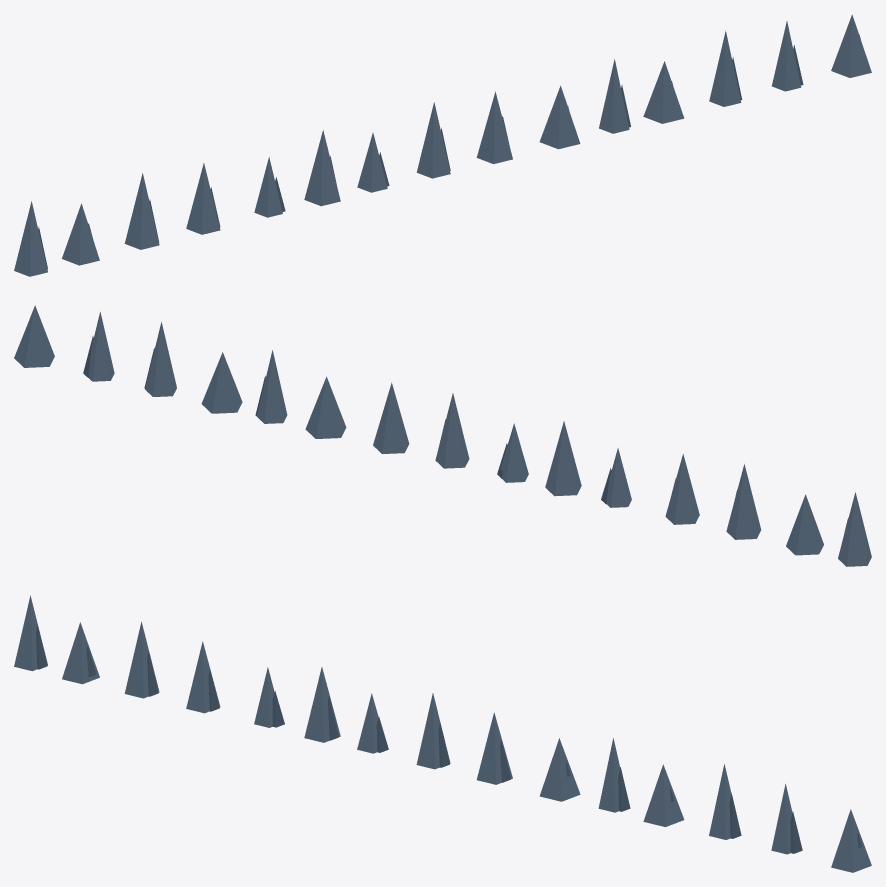
Rendered from cliffs_mid.glb.
3 views of the same model, one above another, from view 1: azimuth 30°, elevation 25°; view 2: azimuth 150°, elevation 25°; view 3: azimuth 330°, elevation 25° (orthographic).
Visible parts, largest first — view 1: Cone.002, Cone.012, Cone.020, Cone.014, Cone.026, Cone.028, Cone, Cone.010, Cone.018, Cone.016, Cone.006, Cone.004 (+3 smaller); view 2: Cone.002, Cone.012, Cone.026, Cone.028, Cone.020, Cone.010, Cone.014, Cone, Cone.018, Cone.016, Cone.006, Cone.004 (+3 smaller); view 3: Cone.026, Cone.028, Cone.010, Cone.002, Cone.012, Cone.020, Cone.014, Cone.006, Cone, Cone.018, Cone.016, Cone.004 (+3 smaller).
Part boxes in pixels (left/top/right/bottom): Cone.002: left=304, top=130, right=340, bottom=206; Cone.012: left=124, top=173, right=159, bottom=249; Cone.020: left=476, top=91, right=512, bottom=163; Cone.014: left=416, top=102, right=450, bottom=178; Cone.026: left=539, top=85, right=580, bottom=149; Cone.028: left=831, top=14, right=871, bottom=77; Cone: left=14, top=201, right=47, bottom=276; Cone.010: left=643, top=61, right=684, bottom=123; Cone.018: left=186, top=163, right=220, bottom=234; Cone.016: left=709, top=30, right=741, bottom=106; Cone.006: left=62, top=203, right=99, bottom=265; Cone.004: left=599, top=59, right=629, bottom=133; Cone.002: left=545, top=421, right=581, bottom=496; Cone.012: left=726, top=464, right=761, bottom=539; Cone.026: left=305, top=376, right=346, bottom=438; Cone.028: left=14, top=305, right=54, bottom=367; Cone.020: left=373, top=382, right=409, bottom=453; Cone.010: left=201, top=352, right=242, bottom=413; Cone.014: left=435, top=393, right=469, bottom=468; Cone: left=838, top=492, right=871, bottom=566; Cone.018: left=665, top=454, right=699, bottom=524; Cone.016: left=145, top=321, right=176, bottom=396; Cone.006: left=786, top=494, right=823, bottom=555; Cone.004: left=256, top=350, right=287, bottom=423; Cone.026: left=539, top=738, right=580, bottom=801; Cone.028: left=831, top=809, right=871, bottom=872; Cone.010: left=643, top=764, right=684, bottom=826; Cone.002: left=304, top=667, right=340, bottom=742; Cone.012: left=124, top=621, right=159, bottom=698; Cone.020: left=476, top=712, right=512, bottom=784; Cone.014: left=416, top=693, right=450, bottom=769; Cone.006: left=62, top=622, right=99, bottom=684; Cone: left=14, top=595, right=47, bottom=671; Cone.018: left=186, top=641, right=220, bottom=713; Cone.016: left=709, top=764, right=731, bottom=839; Cone.004: left=598, top=738, right=620, bottom=812.
Size of the model in its own units: 58.54 by 4.57 by 2.34.
